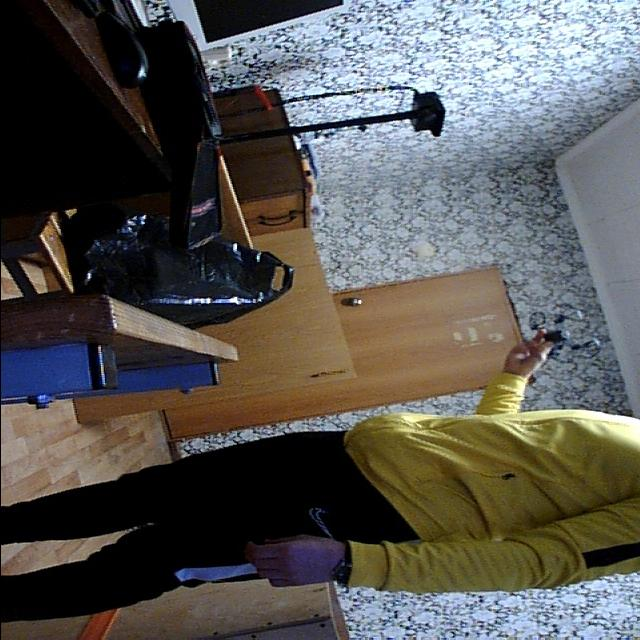drone: (518, 298, 610, 374)
